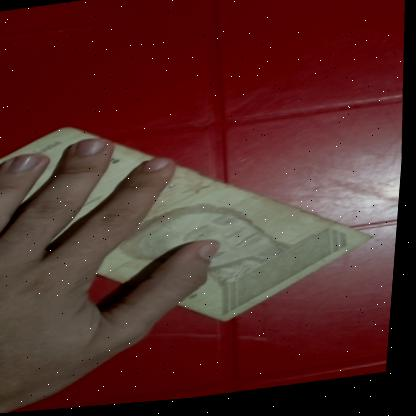vef_front: (0, 91, 390, 353)
